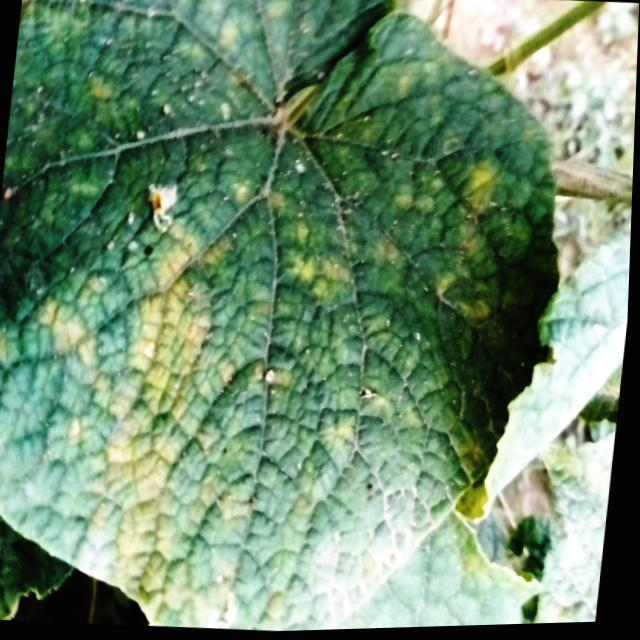Downy-Mildew: (0, 0, 558, 633)
